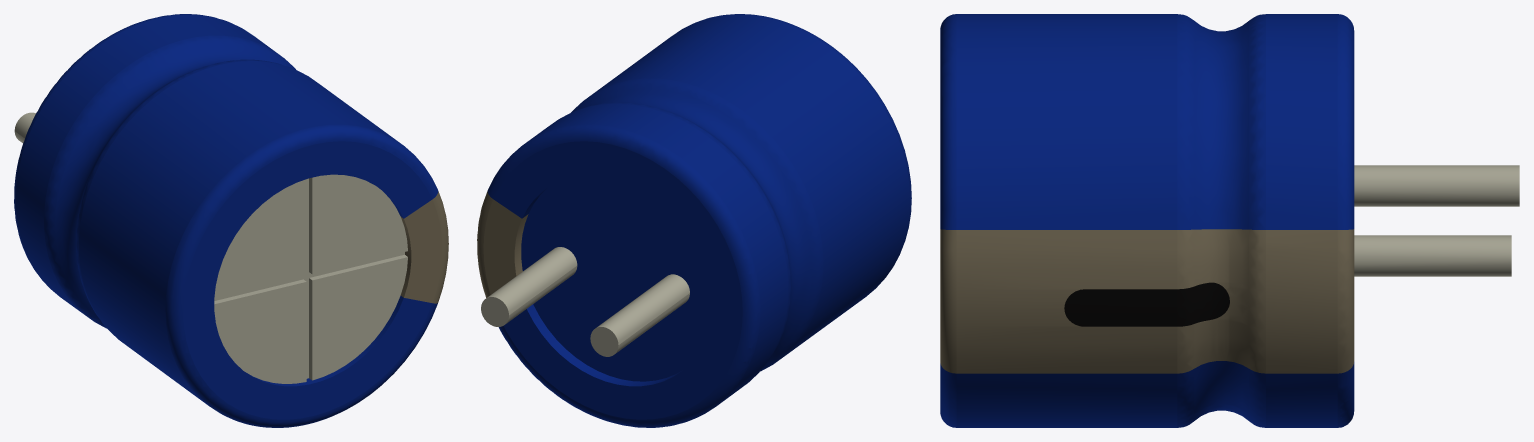
The model's file is cp_radial_d5.0mm_p2.00mm.glb.
3 views of the same model, side by side, from view 1: azimuth 30°, elevation 25°; view 2: azimuth 150°, elevation 25°; view 3: azimuth 270°, elevation 25° (orthographic). The views are drawn at different scales.
Parts seen in each view (by area): view 1: CP_Radial_D5.0mm_P2.00mm; view 2: CP_Radial_D5.0mm_P2.00mm; view 3: CP_Radial_D5.0mm_P2.00mm.
Part boxes in pixels (left/top/right/bottom): CP_Radial_D5.0mm_P2.00mm: left=14, top=14, right=448, bottom=427; CP_Radial_D5.0mm_P2.00mm: left=477, top=14, right=911, bottom=427; CP_Radial_D5.0mm_P2.00mm: left=940, top=14, right=1519, bottom=427.
Size of the model in its own units: 5 by 5 by 7.
